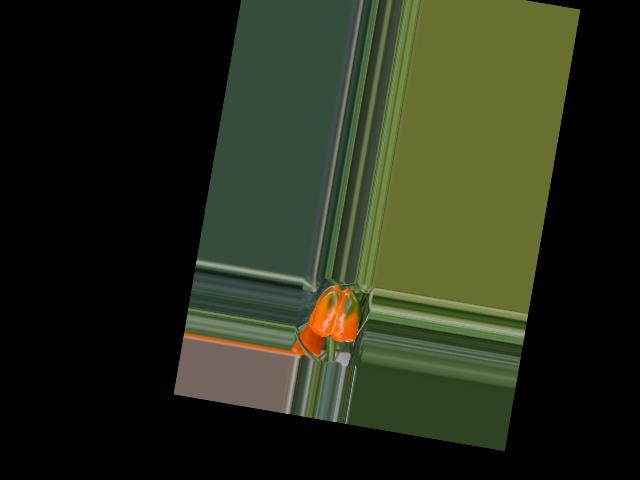bell_pepper: (303, 277, 372, 351)
